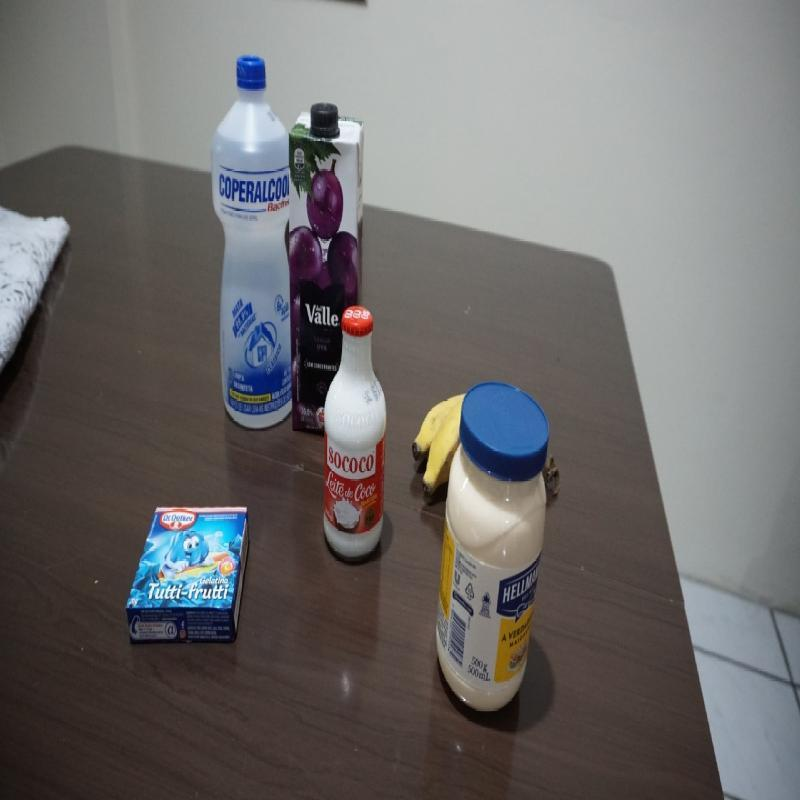Banana: (412, 389, 465, 504)
Coconut Milk: (319, 306, 388, 565)
Gelatine: (126, 505, 252, 647)
Mayonnaise: (433, 382, 551, 718), (210, 50, 291, 426)
